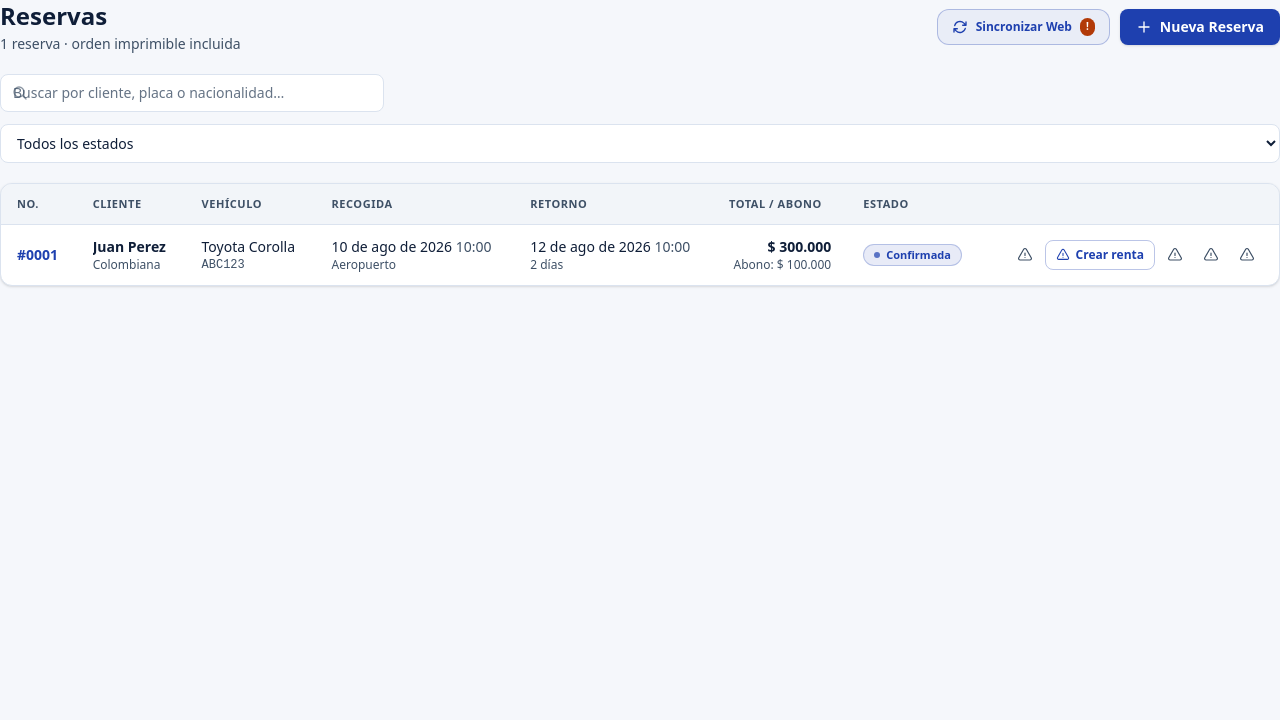
Scenario: ramas de error y cálculo de la página de Reservas › abre la orden imprimible, imprime y limpia el clon con afterprint
The image size is (1280, 720).
Expected: the text "Juan Perez" is shown, [93,237,170,257]
Click the button named "Imprimir orden de reserva #1" at point(1025, 255), box [1009,239,1041,271]
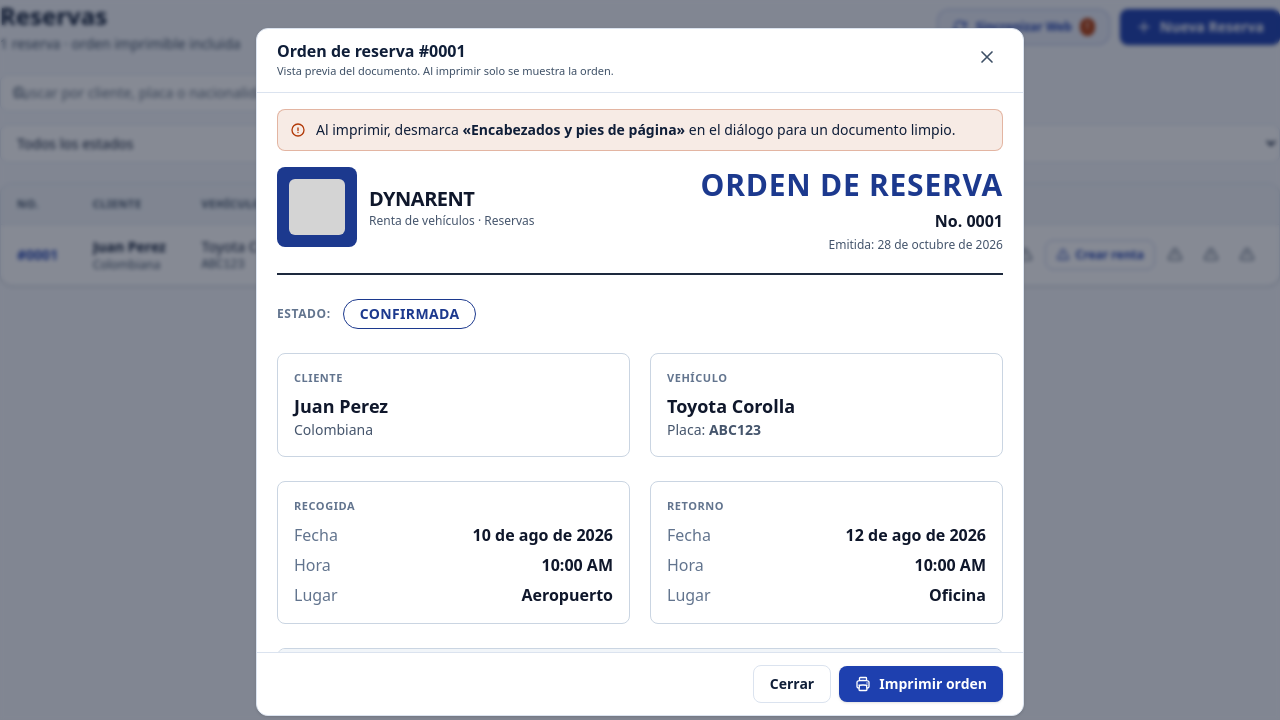
Result: the dialog shows "Orden de reserva #0001" at [277,40,466,62]
Click the button "Imprimir orden" at point(921, 684), box [839,666,1003,702]
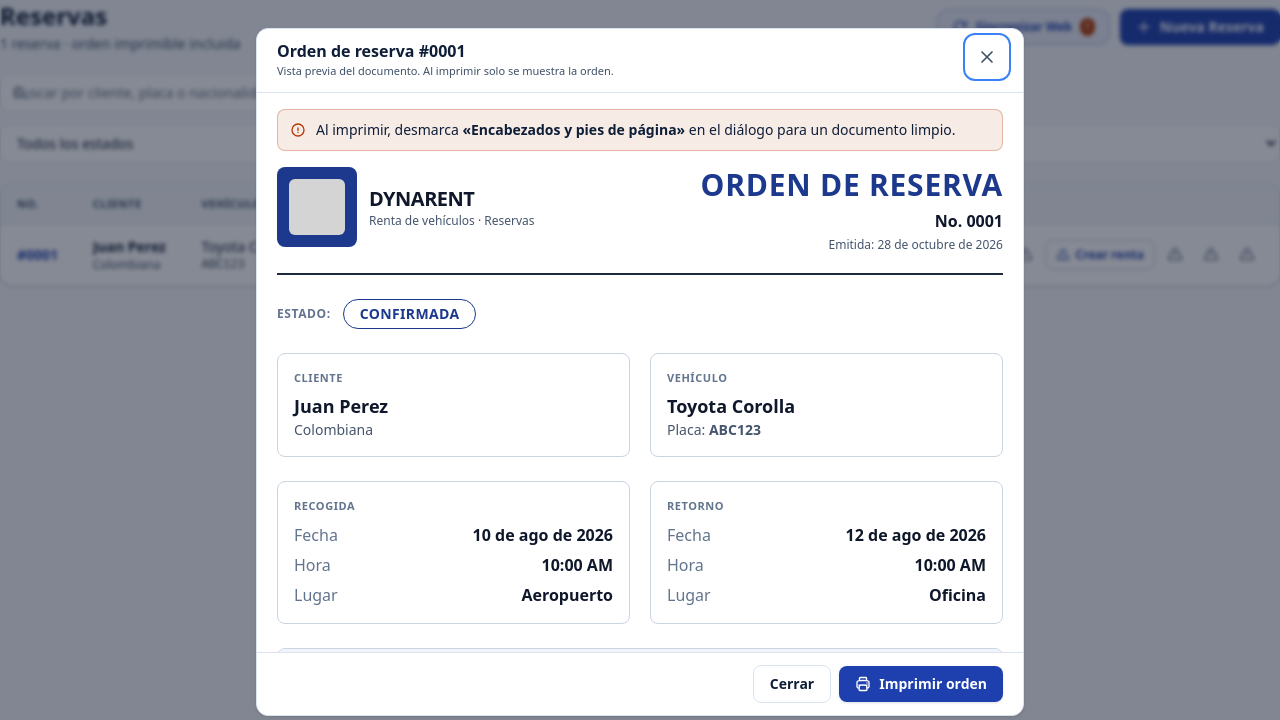
Click the button named "Cerrar" at point(987, 57), box [967,37,1007,77]
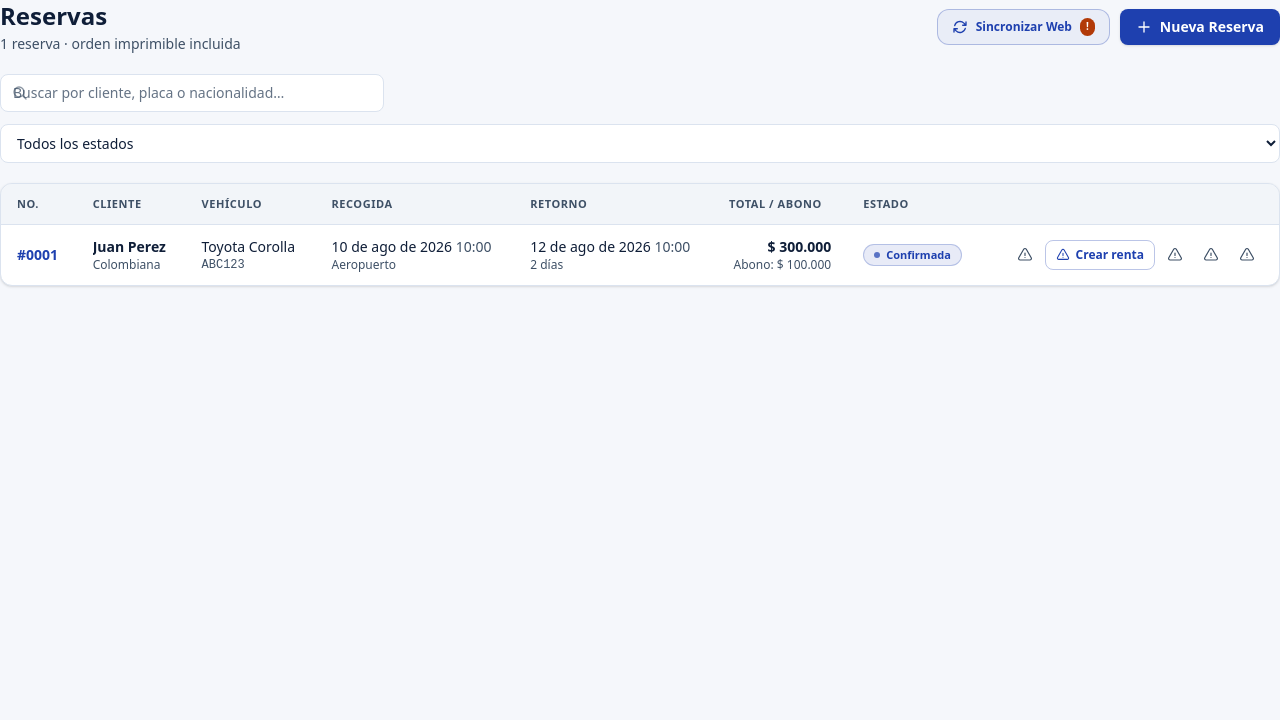
Result: the dialog is gone
